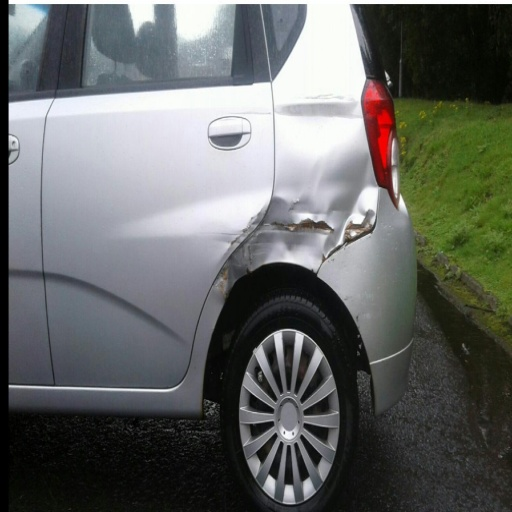dent: (210, 128, 380, 328), (210, 203, 268, 261), (394, 245, 397, 250), (346, 271, 348, 274), (363, 269, 365, 272), (364, 290, 366, 293), (346, 259, 348, 262), (377, 254, 378, 257), (386, 238, 387, 240), (388, 233, 389, 235), (390, 225, 391, 227), (385, 225, 386, 227), (393, 213, 394, 214), (381, 225, 382, 226)
rust: (271, 217, 335, 233), (342, 213, 373, 244), (219, 284, 227, 300), (222, 266, 229, 282), (232, 235, 239, 246), (321, 251, 326, 265), (245, 266, 251, 275)
scratch: (223, 203, 264, 259), (269, 216, 334, 233), (344, 207, 371, 239), (205, 233, 237, 236), (248, 242, 252, 265), (344, 295, 353, 300), (293, 198, 299, 205), (356, 315, 360, 324), (328, 258, 334, 263), (288, 208, 295, 212)
